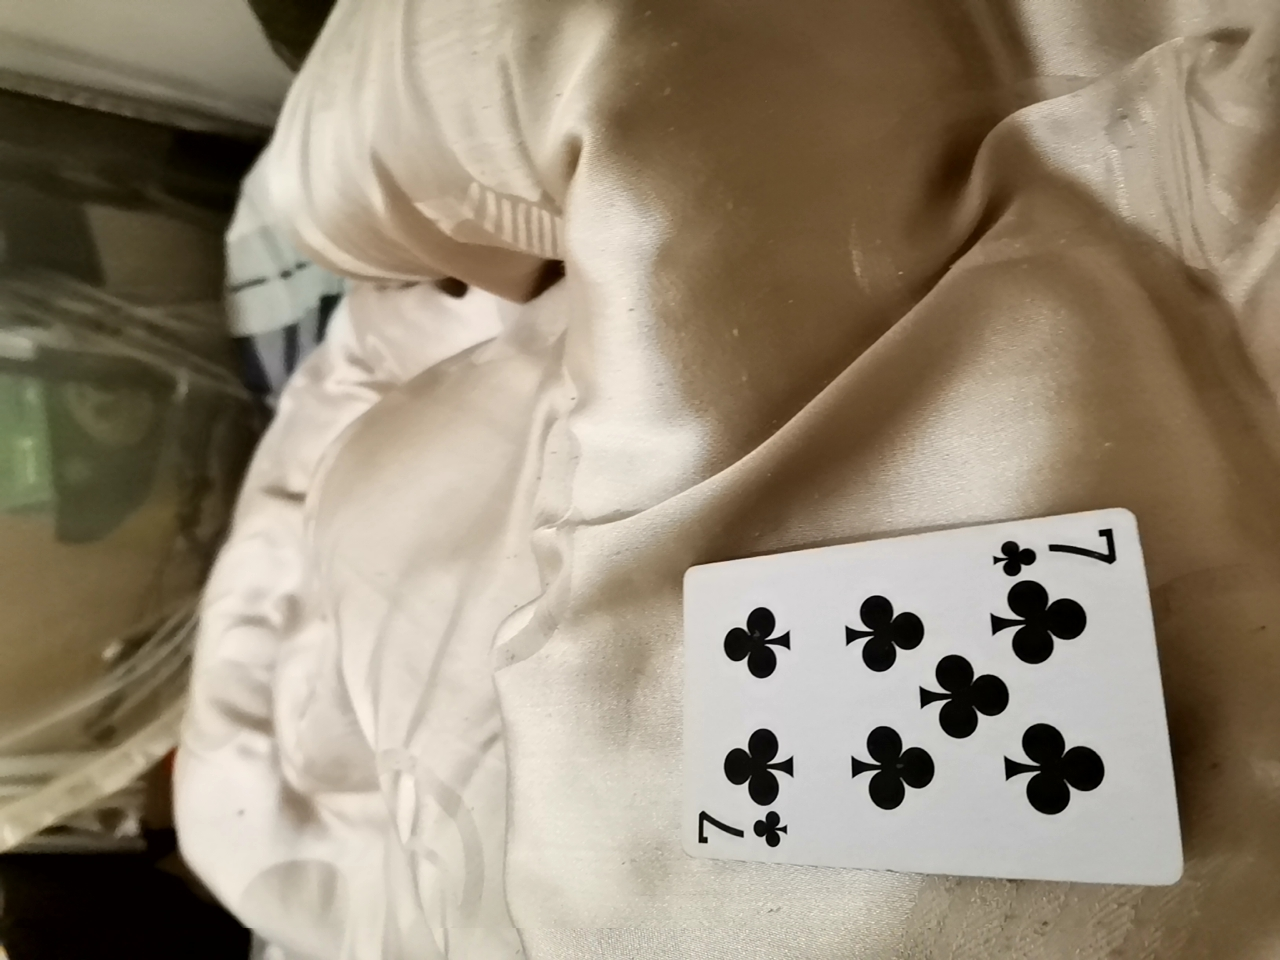mh 7: (671, 521, 1182, 884)
